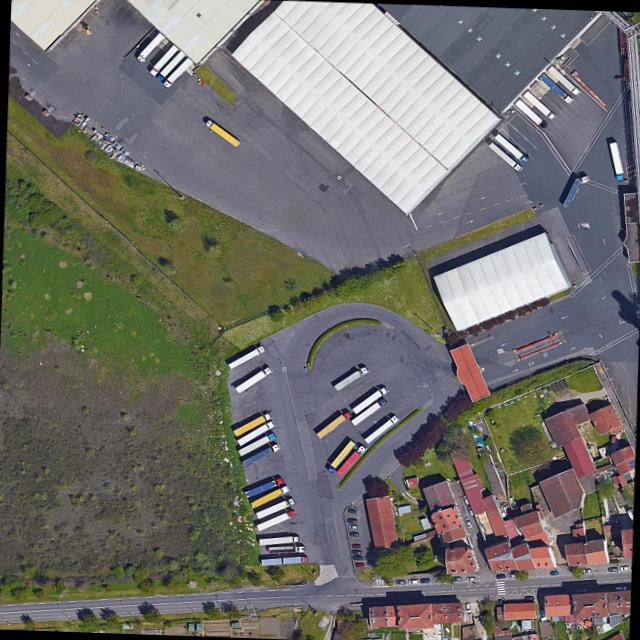large-vehicle: (561, 169, 594, 209), (538, 71, 574, 103), (522, 89, 558, 120), (487, 141, 524, 171), (350, 396, 387, 426), (314, 408, 352, 437), (234, 364, 272, 393), (547, 64, 582, 95), (363, 413, 399, 443), (352, 384, 389, 413), (326, 438, 356, 473), (232, 410, 272, 436), (155, 48, 186, 81), (163, 55, 194, 88), (514, 98, 548, 128), (494, 133, 529, 162), (241, 441, 280, 467), (205, 118, 241, 146), (332, 364, 369, 391), (149, 43, 180, 75), (237, 419, 275, 445), (250, 483, 291, 507), (227, 343, 266, 368), (237, 430, 276, 454), (337, 443, 367, 474), (255, 508, 296, 530), (244, 475, 283, 497), (255, 496, 295, 517), (137, 31, 165, 61), (609, 140, 625, 180), (261, 554, 307, 565), (259, 534, 300, 544), (268, 544, 306, 552)
small-vehicle: (463, 515, 473, 527), (476, 530, 484, 542), (462, 493, 470, 504), (467, 504, 474, 516), (419, 576, 431, 583), (464, 601, 471, 612), (352, 553, 363, 560), (351, 547, 362, 554), (619, 564, 631, 570), (538, 605, 545, 615), (495, 572, 506, 578), (408, 577, 419, 583), (348, 530, 359, 536), (346, 516, 357, 522), (347, 506, 356, 513), (614, 584, 626, 589), (524, 594, 534, 600), (506, 571, 516, 577), (351, 542, 361, 548), (607, 566, 618, 571), (465, 575, 476, 580), (354, 561, 365, 566), (582, 567, 592, 572), (395, 578, 405, 583), (575, 587, 587, 591), (549, 569, 558, 574), (348, 523, 357, 528), (453, 575, 461, 580)
